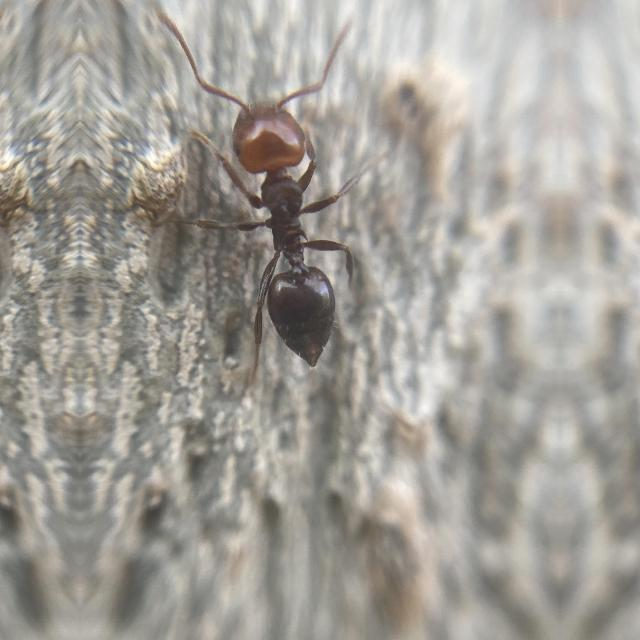Crematogaster: (219, 91, 353, 366)
